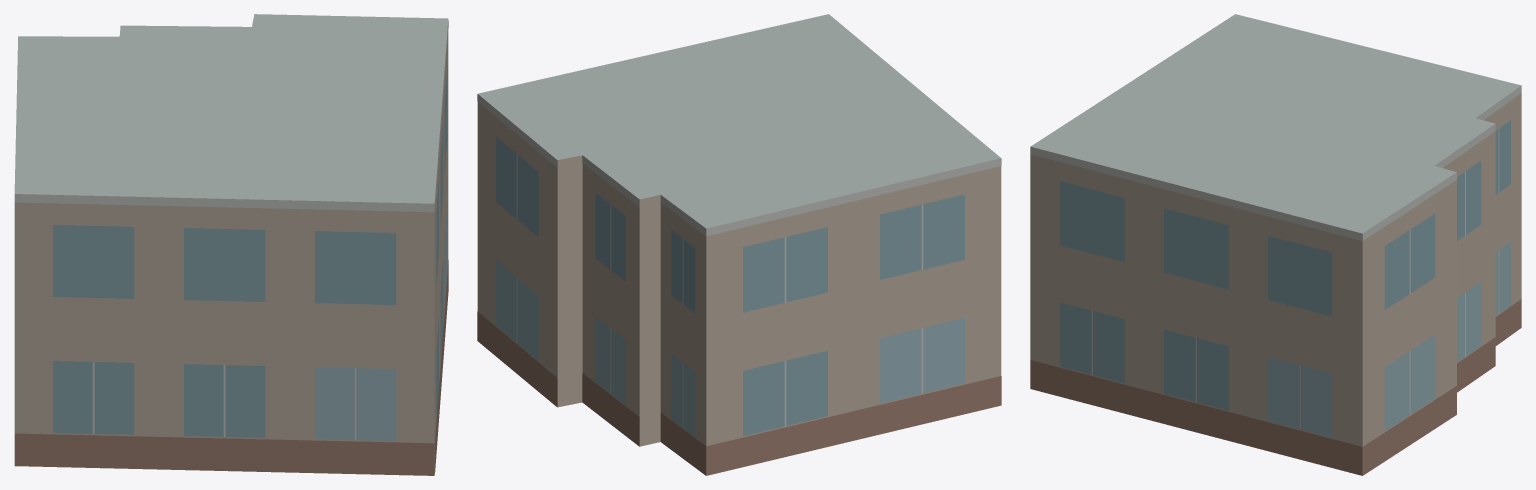
Rendered from survey-upis-32872419.glb.
3 renders of one model, left to right at view 1: azimuth 30°, elevation 25°; view 2: azimuth 150°, elevation 25°; view 3: azimuth 270°, elevation 25°, orthographic. The views are drawn at different scales.
Visible parts, largest first — view 1: survey-upis-32872419.tmp; view 2: survey-upis-32872419.tmp; view 3: survey-upis-32872419.tmp.
Part boxes in pixels (x1,y1,x2,y2): survey-upis-32872419.tmp: [14, 14, 448, 475]; survey-upis-32872419.tmp: [477, 14, 1001, 475]; survey-upis-32872419.tmp: [1030, 14, 1521, 475].
Size of the model in its own units: 15.17 by 7.8 by 14.34.
